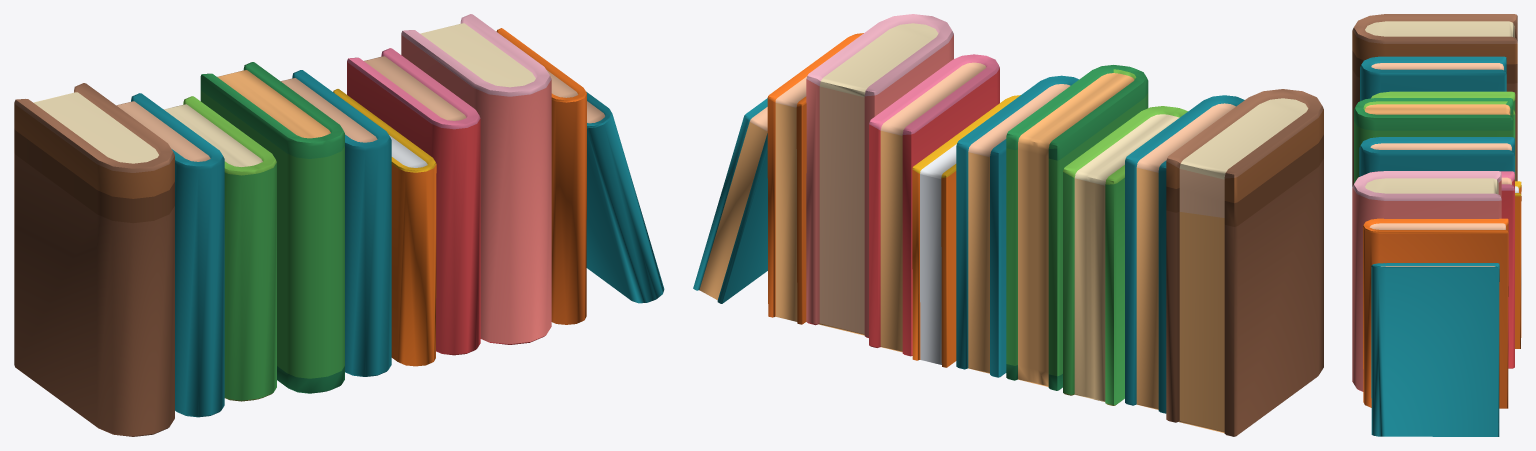
The model's file is livros_natal_fileira_grande_pacote.glb.
3 renders of one model, left to right at view 1: azimuth 30°, elevation 25°; view 2: azimuth 150°, elevation 25°; view 3: azimuth 270°, elevation 25°, orthographic. The views are drawn at different scales.
Visible parts, largest first — view 1: livros_natal_fileira_grande_pacote; view 2: livros_natal_fileira_grande_pacote; view 3: livros_natal_fileira_grande_pacote.
Part boxes in pixels (bbox=[...]): livros_natal_fileira_grande_pacote: bbox=[14, 14, 664, 436]; livros_natal_fileira_grande_pacote: bbox=[693, 14, 1323, 436]; livros_natal_fileira_grande_pacote: bbox=[1352, 14, 1521, 436].
Bounding box in the file's own units: 0.5578 × 0.2558 × 0.1835.
Materials: 1 (1 with a texture image).
